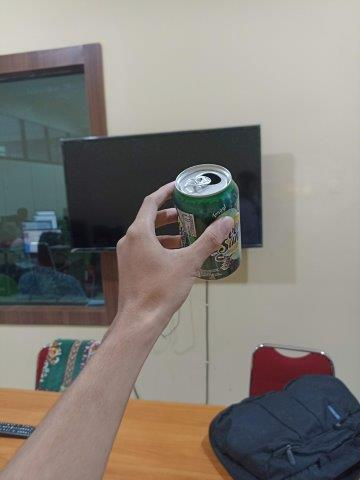kaleng: (173, 163, 241, 280)
